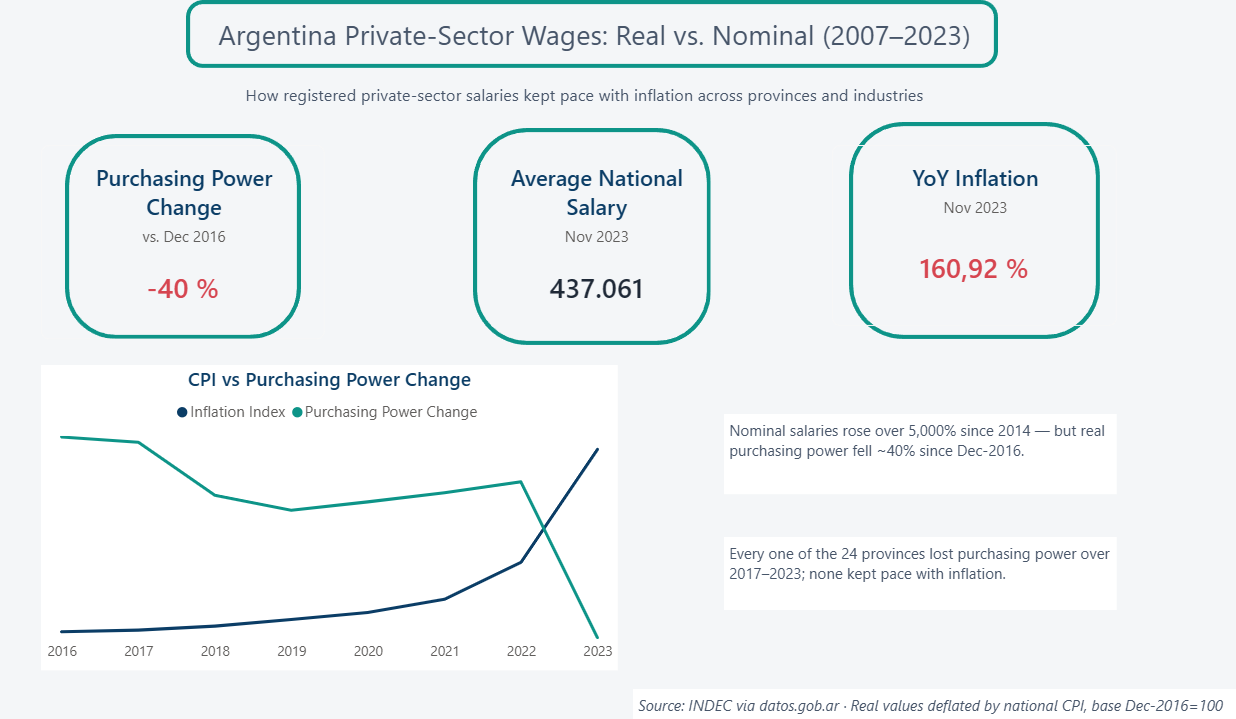

This screenshot's page, from the dashboard's own definition file:
{"tool":"powerbi","page":{"name":"Executive Overview","canvas":[1280,720],"ordinal":0},"visuals":[{"type":"cardVisual","title":"Average National Salary","fields":{"Data":["_Medidas.Salario Nacional Actual"]},"box":[531.1,160.5,251.9,185.8],"z":0},{"type":"cardVisual","title":"Purchasing Power Change","fields":{"Data":["_Medidas.Poder Adquisitivo Acumulado %"]},"box":[110.9,159.5,276.2,188.7],"z":1000},{"type":"textbox","box":[147.8,28.2,1002.8,66.1],"z":2000},{"type":"shape","box":[251.9,18.5,789.8,66.1],"z":3000},{"type":"shape","box":[896.8,137.1,244.1,211.1],"z":4000},{"type":"shape","box":[134.2,148.8,229.5,199.4],"z":5000},{"type":"shape","box":[531.1,143,231.5,211.1],"z":6000},{"type":"textbox","box":[138.1,94.3,1002.8,39.9],"z":7000},{"type":"textbox","box":[686.5,688.5,593.5,32],"z":8000},{"type":"cardVisual","title":"YoY Inflation","fields":{"Data":["_Medidas.Inflación Interanual %"]},"box":[880.2,159.5,277.2,176],"z":9000},{"type":"lineChart","title":"CPI vs Purchasing Power Change","fields":{"Y":["_Medidas.Índice IPC"],"Category":["dim_fecha.año_mes.Variation.Date Hierarchy.Year"],"Y2":["_Medidas.Poder Adquisitivo Acumulado %"]},"box":[110.9,373.5,561.2,296.7],"z":10000},{"type":"textbox","box":[775.2,421.2,382.2,77.8],"z":11000},{"type":"textbox","box":[775.2,540.8,382.2,71],"z":12000}]}

Visuals, with their boxes on the page's 1280x720 design canvas (x1, y1, x2, y2). These are canvas units, not pixel positions in the 1236x719 screenshot, which may show the page scaled, cropped or inside an application window:
"Average National Salary" cardVisual: box(531, 160, 783, 346)
"Purchasing Power Change" cardVisual: box(111, 160, 387, 348)
textbox: box(148, 28, 1151, 94)
shape: box(252, 18, 1042, 85)
shape: box(897, 137, 1141, 348)
shape: box(134, 149, 364, 348)
shape: box(531, 143, 763, 354)
textbox: box(138, 94, 1141, 134)
textbox: box(686, 688, 1280, 720)
"YoY Inflation" cardVisual: box(880, 160, 1157, 336)
"CPI vs Purchasing Power Change" lineChart: box(111, 374, 672, 670)
textbox: box(775, 421, 1157, 499)
textbox: box(775, 541, 1157, 612)
